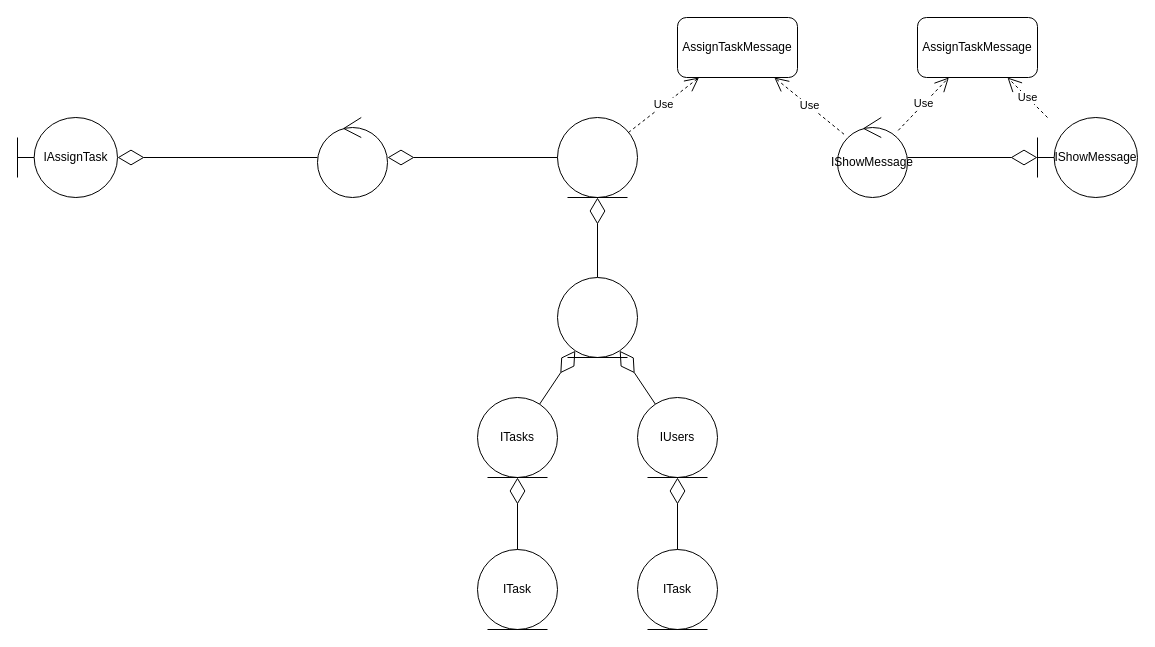
The diagram is 1155 pixels wide and 647 high, and some of its shapes have lost their labels. Here are the shapes that lost their labels. From the top down, the centre of each, then its label:
At (352,157): "I AssignTask".
At (597,157): "IFamiliesUnits".
At (597,317): "IFamilyUnit".
